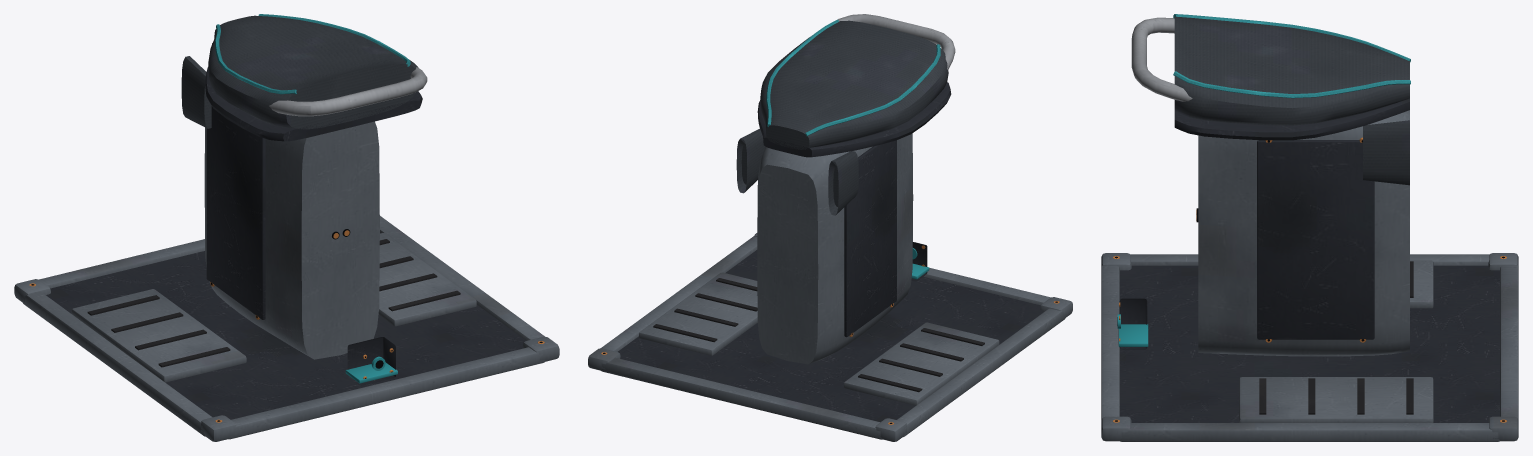
File: saddle_2.glb
3 views of the same model, side by side, from view 1: azimuth 30°, elevation 25°; view 2: azimuth 150°, elevation 25°; view 3: azimuth 270°, elevation 25° (orthographic). The views are drawn at different scales.
Parts seen in each view (by area): view 1: Base, Cushion, SaddlePan; view 2: Base, Cushion, SaddlePan; view 3: Base, Cushion, SaddlePan.
Boxes of the visible parts, x1,y1,x2,y2 form: Base: [14, 56, 559, 441]; Cushion: [208, 14, 418, 129]; SaddlePan: [205, 43, 422, 141]; Base: [588, 14, 1072, 441]; Cushion: [760, 19, 948, 149]; SaddlePan: [757, 82, 951, 157]; Base: [1101, 17, 1518, 441]; Cushion: [1173, 14, 1410, 125]; SaddlePan: [1174, 98, 1409, 140].
Size of the model in its own units: 0.71 by 0.593 by 0.71.
9 materials, 7 textured.
